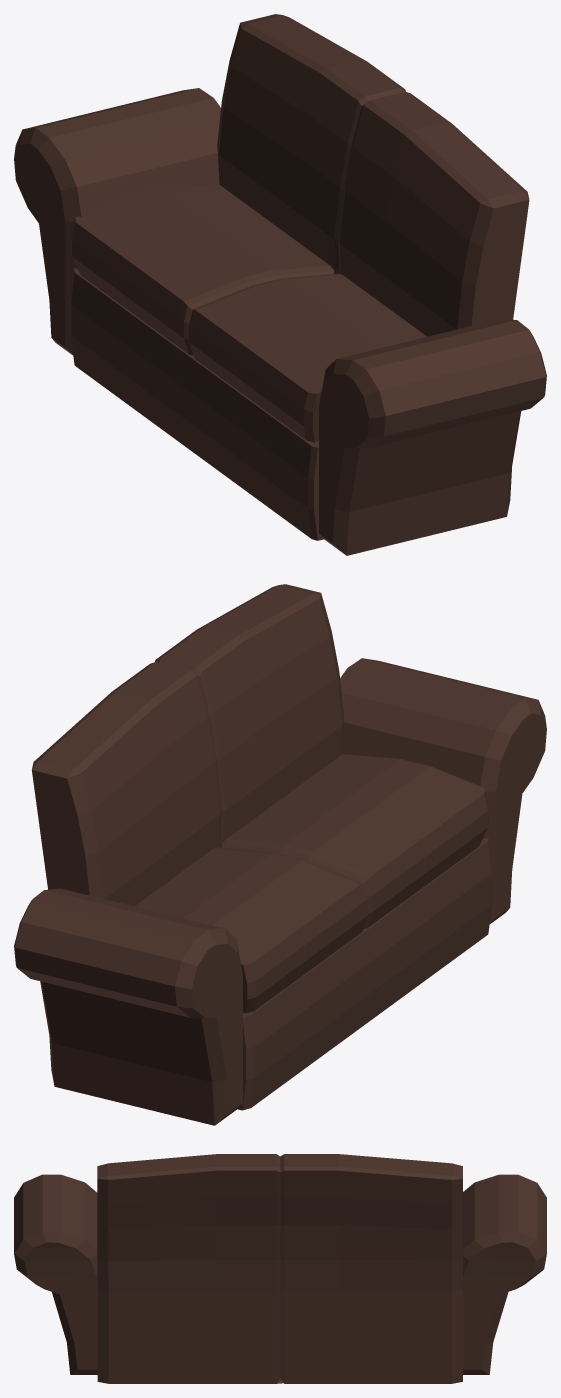
File: sofa.fbx
The picture shows the model from 3 angles, top to bottom: view 1: azimuth 30°, elevation 25°; view 2: azimuth 150°, elevation 25°; view 3: azimuth 270°, elevation 25°; orthographic projection. The views are drawn at different scales.
Parts seen in each view (by area): view 1: sofa; view 2: sofa; view 3: sofa.
Boxes of the visible parts, box(x1,y1,x2,y2) form: sofa: box(14, 14, 546, 555); sofa: box(14, 584, 546, 1125); sofa: box(14, 1154, 546, 1383).
Bounding box in the file's own units: 77.01 × 104 × 225.
